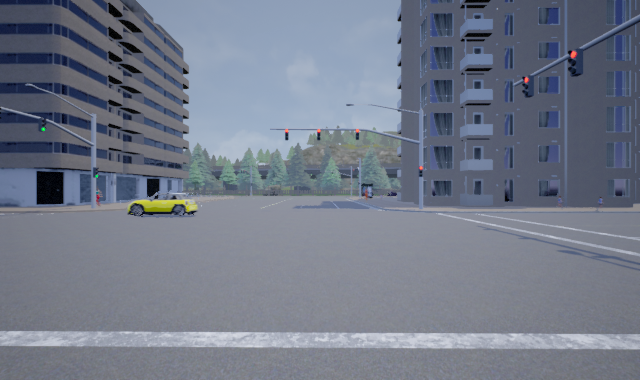pedestrian: (91, 185, 104, 207), (593, 195, 606, 210), (554, 194, 565, 209)
vehicle: (126, 191, 198, 216)
